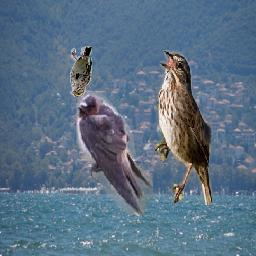Sparrow: (154, 51, 213, 206), (70, 47, 92, 98)
Swallow: (75, 91, 154, 215)
